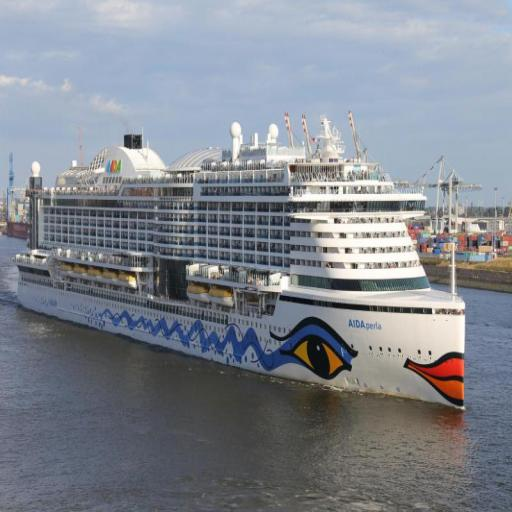cruises: (11, 114, 469, 420)
